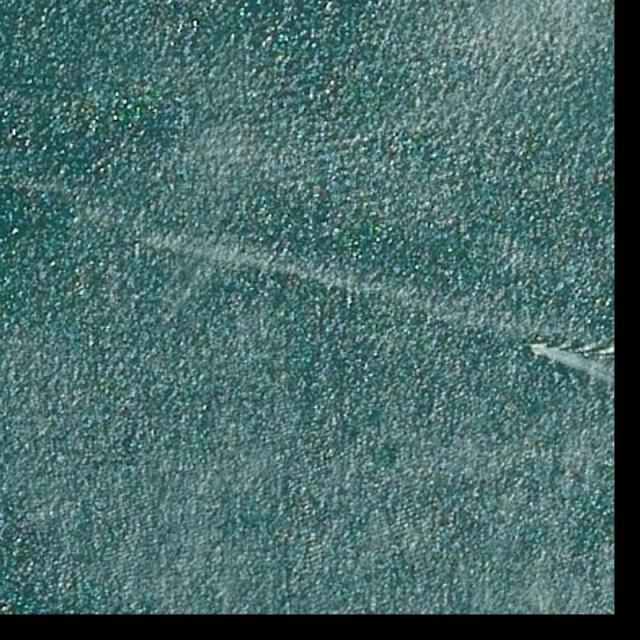ship: (525, 342, 539, 350)
